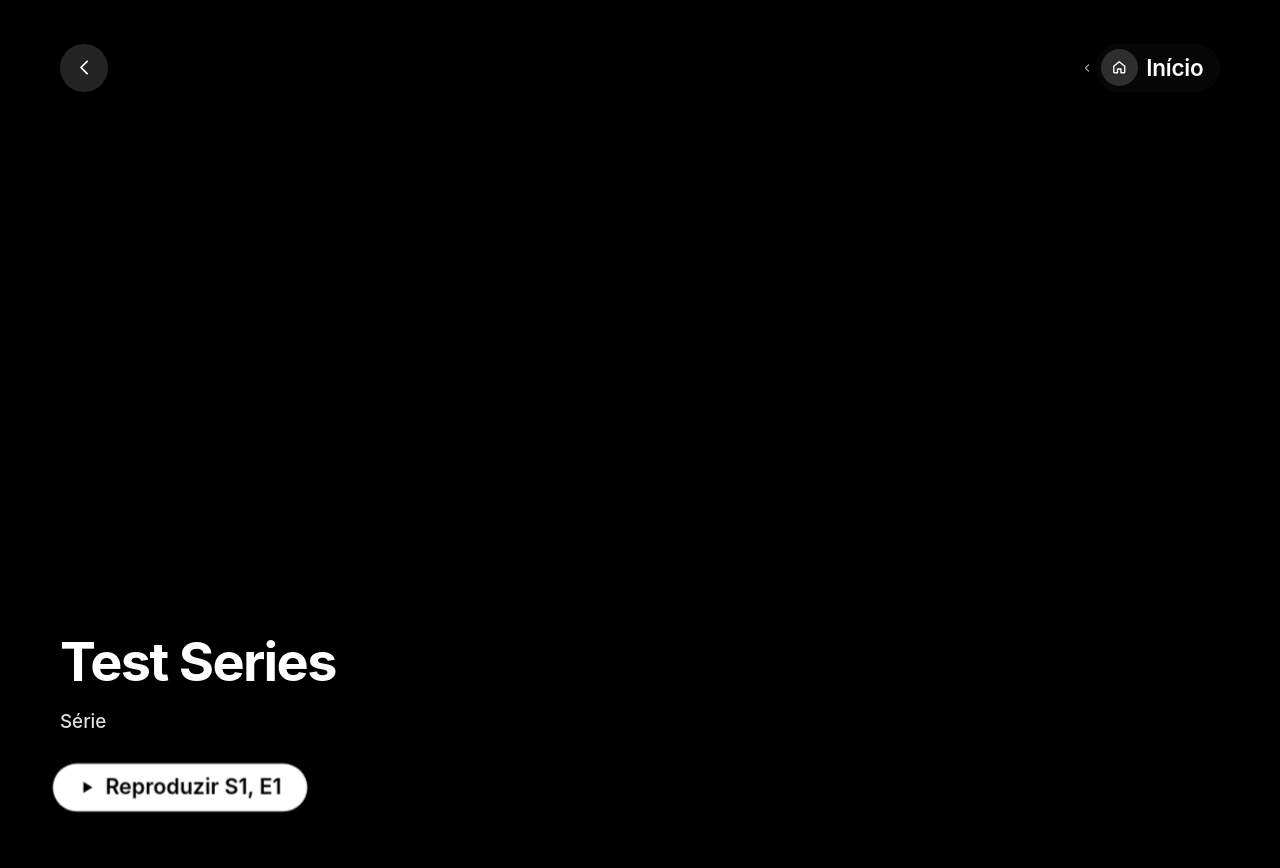
Test: Luma preview › keeps Home reachable from series details through the menu
Click the button with aria-label "Abrir menu": coordinates (1158, 68) x1=1095 y1=44 x2=1220 y2=92
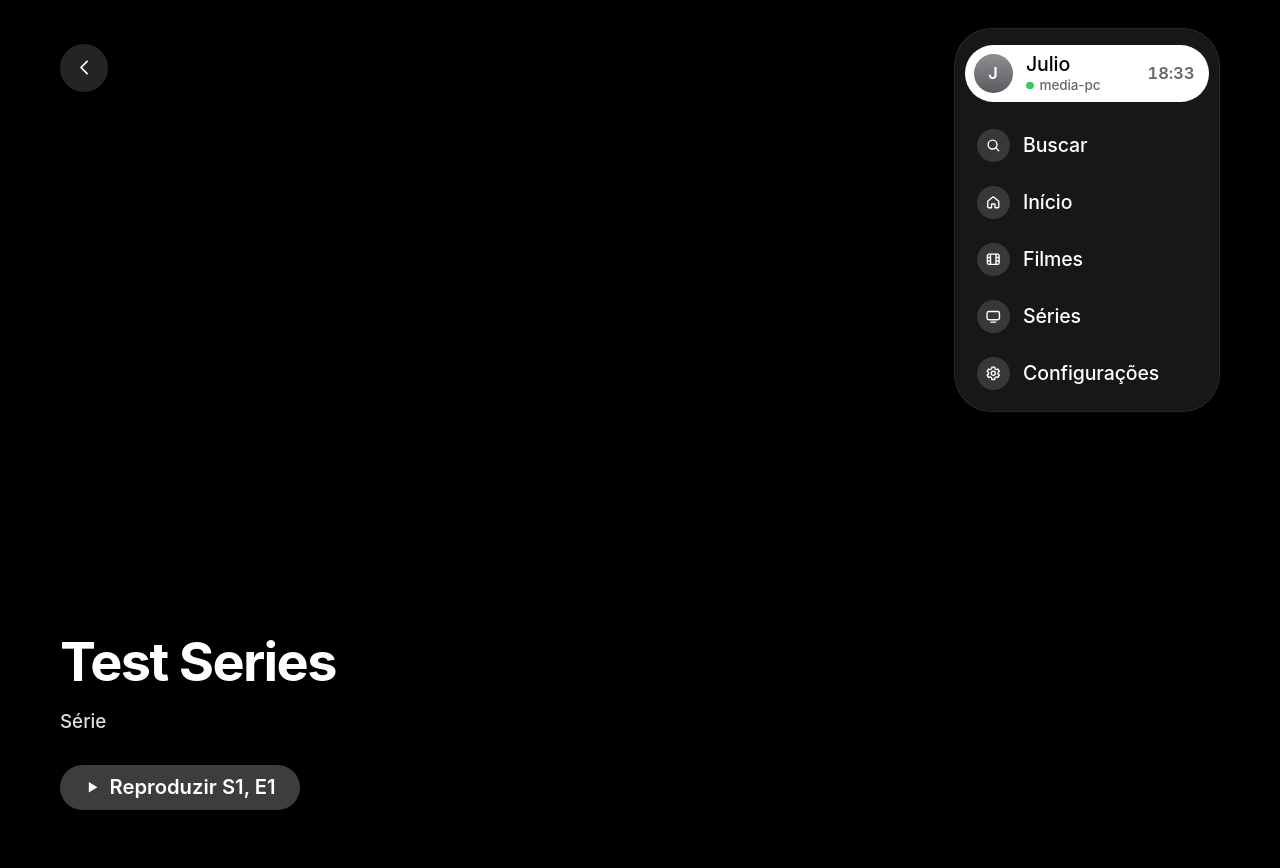
Click the link "Início": coordinates (1024, 202) x1=976 y1=186 x2=1072 y2=219
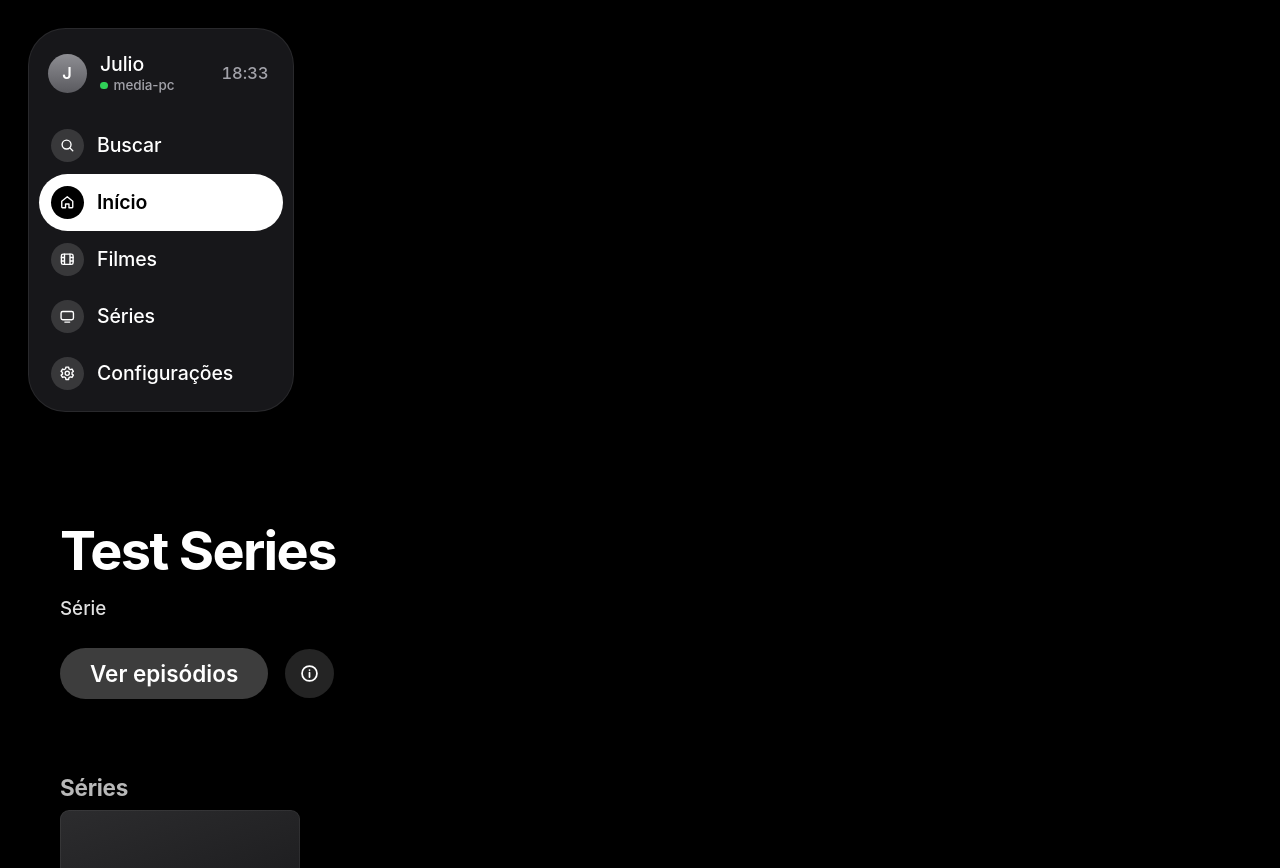
Expected: the heading "Test Series" is shown, x1=60 y1=518 x2=336 y2=583
